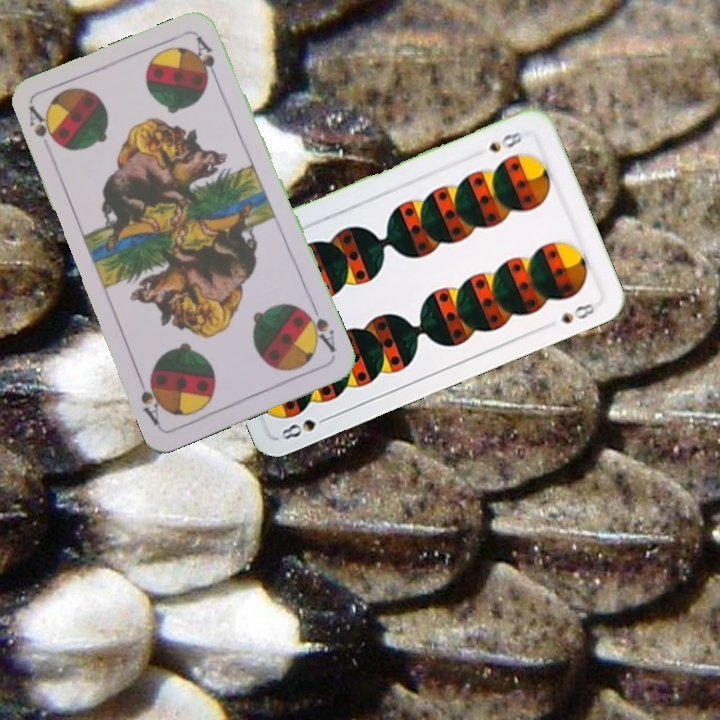S8: (277, 412, 334, 443), (485, 127, 527, 155)
SA: (299, 300, 338, 355), (24, 102, 60, 148)
